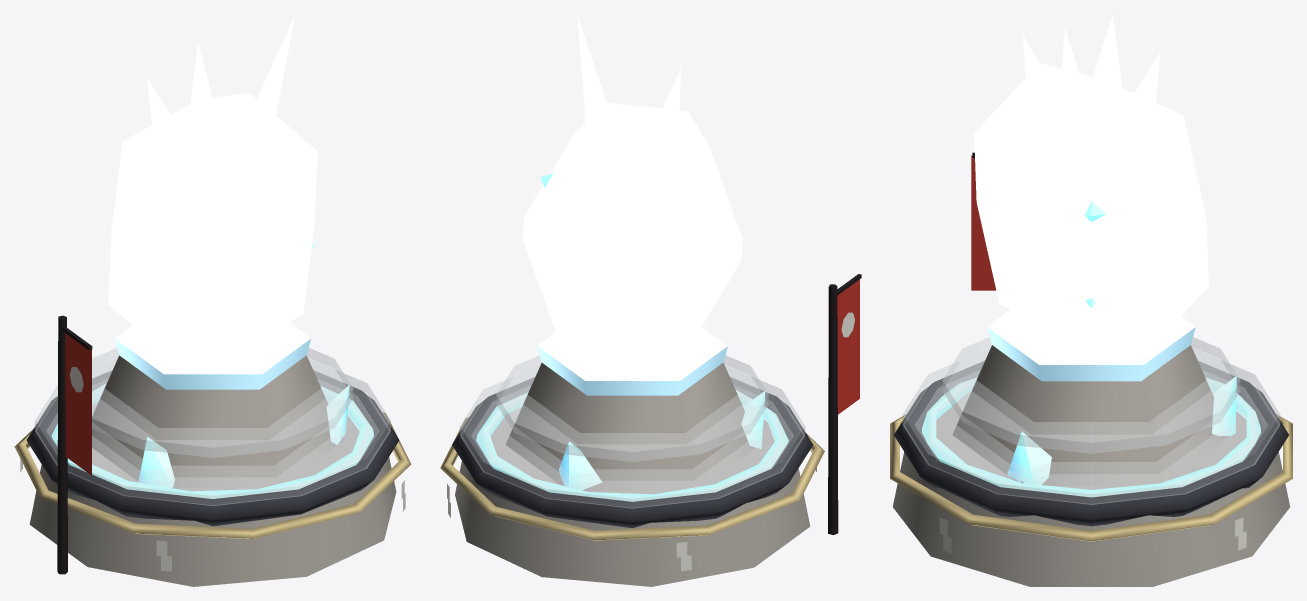
The model's file is tower_freeze_absoluteZero.glb.
3 renders of one model, left to right at view 1: azimuth 30°, elevation 25°; view 2: azimuth 150°, elevation 25°; view 3: azimuth 270°, elevation 25°, orthographic. The views are drawn at different scales.
Visible parts, largest first — view 1: glacier, pedestal, base, frost_fog, base_rim, frost_fog_b, pedestal_frost, deco_shimenawa_rope, aura_ring, deco_nobori_cloth, deco_nobori_pole, glacier_spike_0 (+5 smaller); view 2: glacier, pedestal, base, frost_fog, base_rim, frost_fog_b, pedestal_frost, deco_shimenawa_rope, aura_ring, deco_nobori_cloth, deco_nobori_pole, glacier_spike_0 (+4 smaller); view 3: glacier, pedestal, base, frost_fog, base_rim, frost_fog_b, pedestal_frost, deco_shimenawa_rope, aura_ring, glacier_spike_0, deco_nobori_cloth, side_crystal_0 (+4 smaller).
Boxes of the visible parts, box(x1,y1,x2,y2) form: glacier: box(108, 93, 317, 359); pedestal: box(92, 355, 343, 488); base: box(29, 402, 396, 586); frost_fog: box(35, 358, 390, 505); base_rim: box(26, 370, 399, 526); frost_fog_b: box(92, 348, 353, 457); pedestal_frost: box(114, 322, 311, 389); deco_shimenawa_rope: box(14, 412, 411, 538); aura_ring: box(52, 384, 374, 498); deco_nobori_cloth: box(65, 333, 91, 475); deco_nobori_pole: box(57, 315, 67, 574); glacier_spike_0: box(254, 15, 295, 124); glacier: box(522, 102, 742, 364); pedestal: box(505, 362, 755, 491); base: box(455, 408, 810, 586); frost_fog: box(460, 366, 805, 508); base_rim: box(452, 377, 813, 528); frost_fog_b: box(496, 355, 768, 461); pedestal_frost: box(537, 327, 727, 395); deco_shimenawa_rope: box(440, 417, 824, 540); aura_ring: box(476, 390, 788, 501); deco_nobori_cloth: box(837, 279, 859, 414); deco_nobori_pole: box(828, 284, 838, 534); glacier_spike_0: box(577, 15, 606, 120); glacier: box(974, 63, 1208, 351); pedestal: box(952, 345, 1228, 485); base: box(893, 392, 1289, 586); frost_fog: box(902, 349, 1280, 504); base_rim: box(894, 361, 1288, 526); frost_fog_b: box(942, 337, 1240, 453); pedestal_frost: box(987, 309, 1195, 381); deco_shimenawa_rope: box(890, 414, 1292, 541); aura_ring: box(922, 377, 1260, 497); glacier_spike_0: box(1058, 28, 1091, 132); deco_nobori_cloth: box(971, 155, 996, 290); side_crystal_0: box(1007, 431, 1051, 484).
Size of the model in its own units: 0.4387 by 0.5724 by 0.4052.
